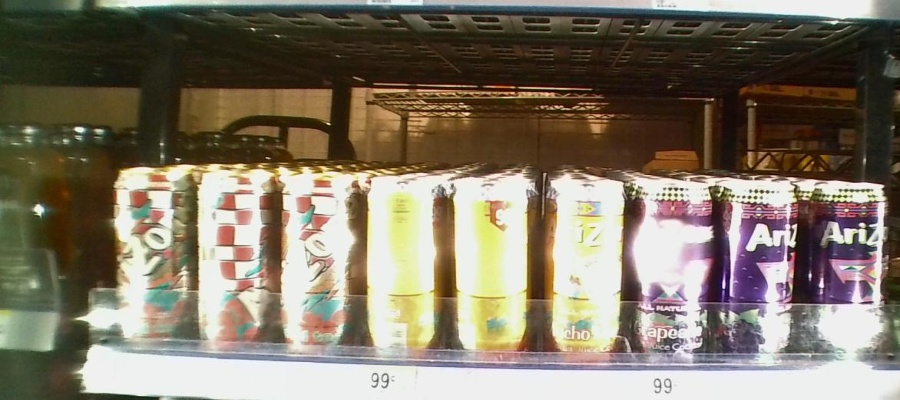bottle: (538, 169, 624, 364), (446, 165, 530, 363), (359, 164, 442, 364), (628, 165, 713, 359), (108, 159, 193, 350), (196, 165, 275, 354), (280, 163, 356, 359), (809, 173, 887, 361), (719, 172, 801, 349)
